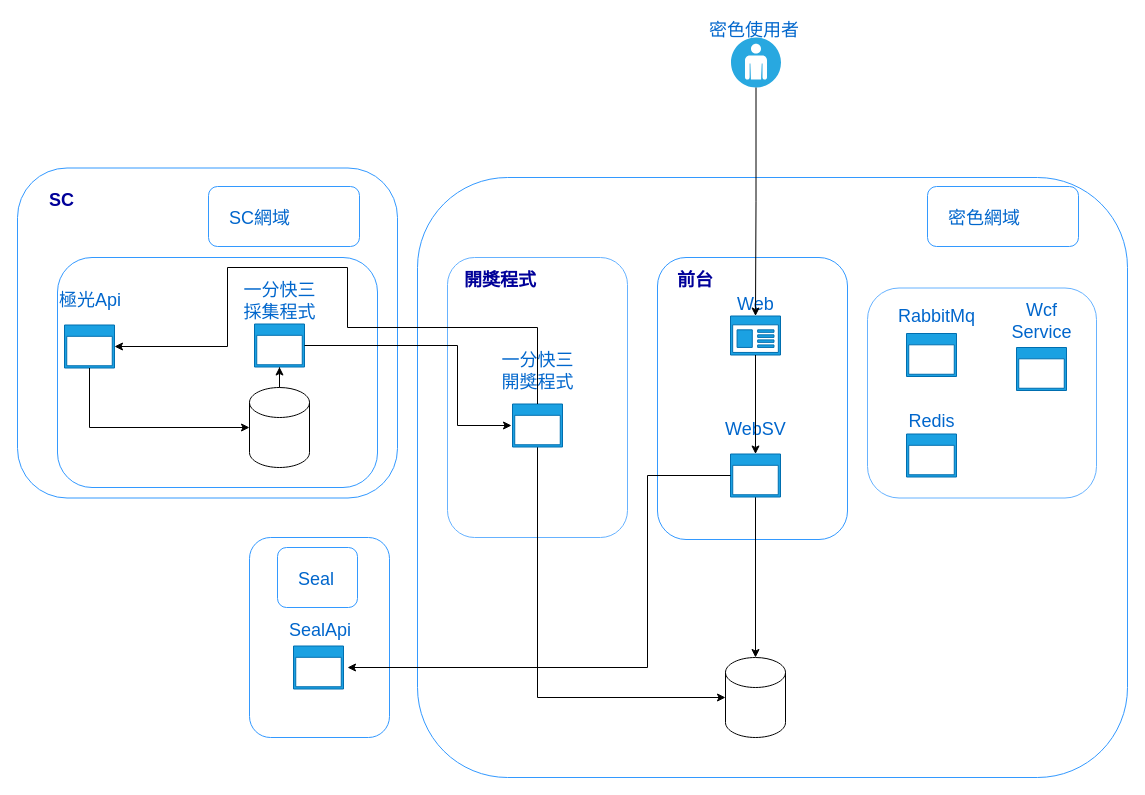
Some shapes in this 1145 by 795 pixel diagram are drawn without their labels. Here are the shapes that lost their labels. From the top down, the centre of each, then its label:
At point (279, 427): "MongoDb".
At point (755, 697): "MS_Lottery InloDb".
